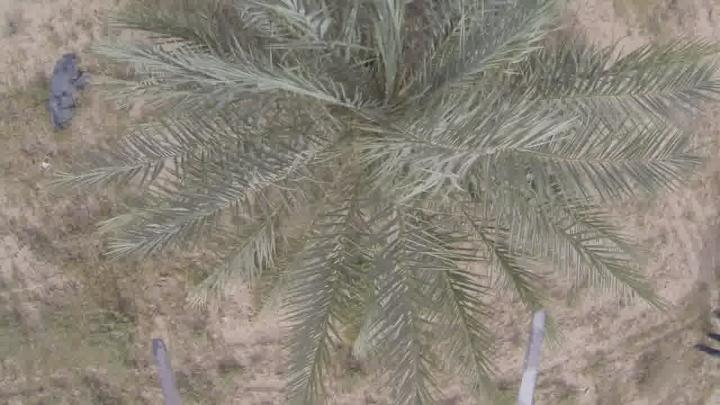Date-Palm-Crown: (217, 6, 535, 270)
